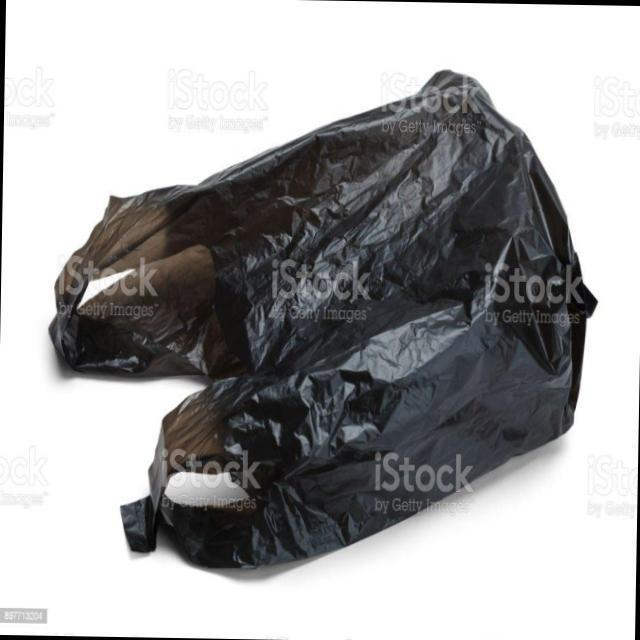KantongPlastik: (47, 67, 598, 570)
